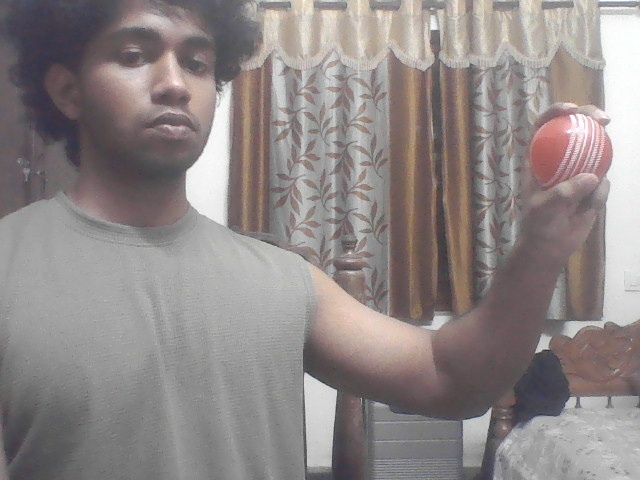cricket_ball: (529, 113, 616, 188)
